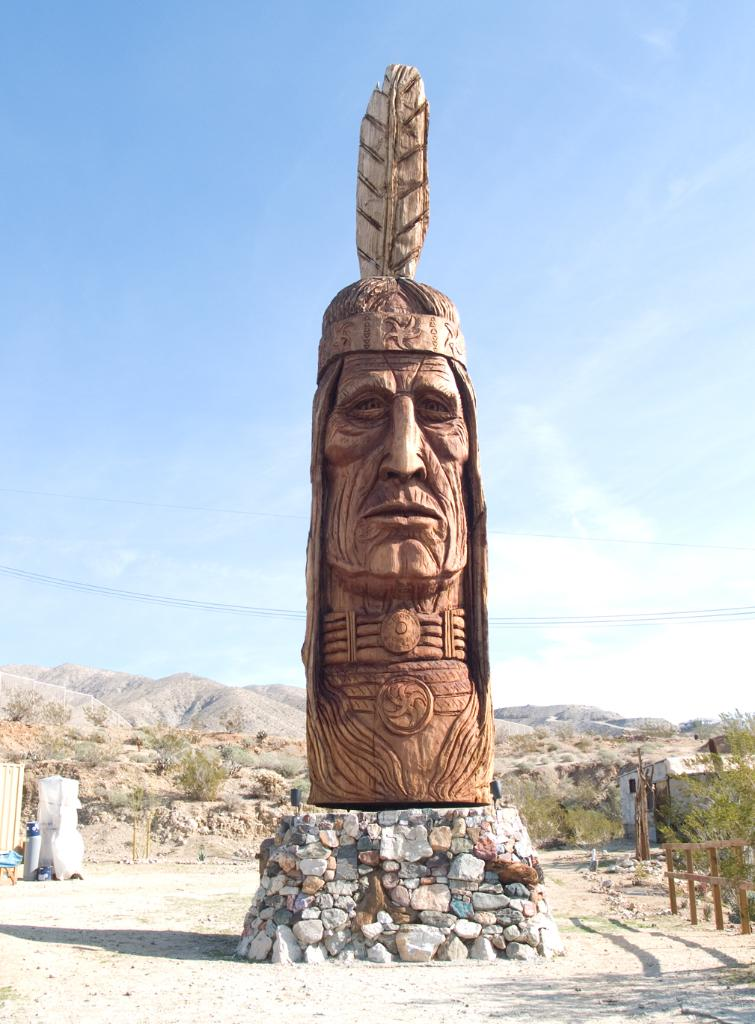face: (323, 307, 471, 602)
